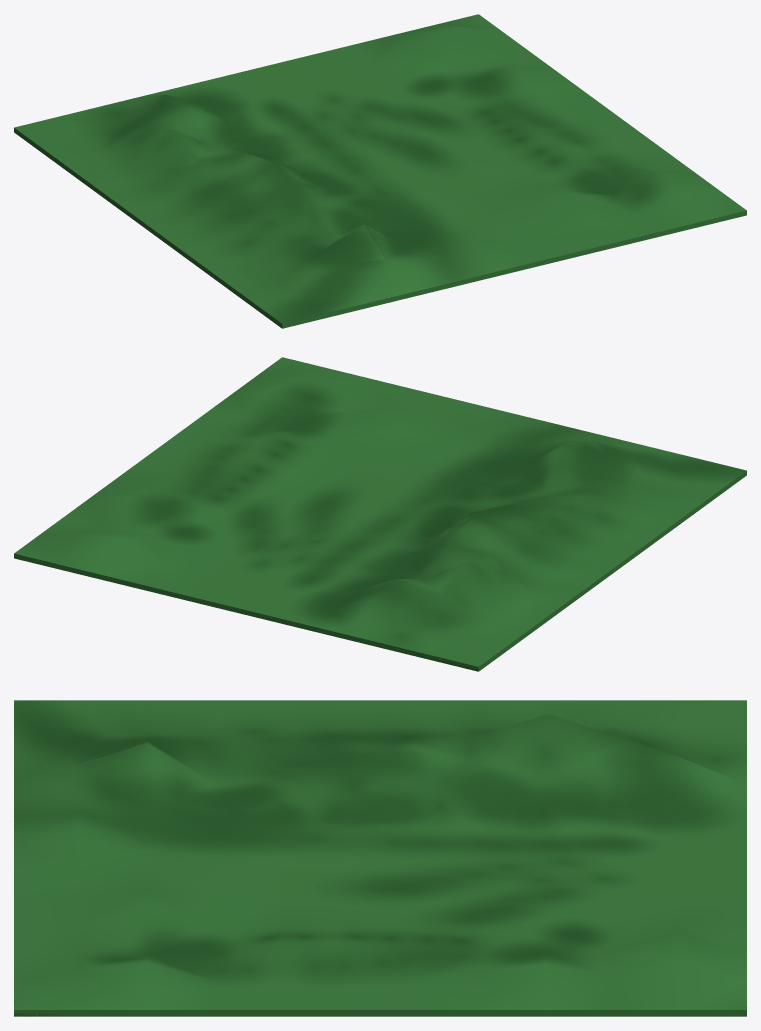
File: ground.obj
3 views of the same model, one above another, from view 1: azimuth 30°, elevation 25°; view 2: azimuth 150°, elevation 25°; view 3: azimuth 270°, elevation 25° (orthographic). The views are drawn at different scales.
Visible parts, largest first — view 1: 立方体; view 2: 立方体; view 3: 立方体.
Part boxes in pixels (x1,y1,x2,y2): 立方体: (14,14,746,328); 立方体: (14,357,746,671); 立方体: (14,700,746,1016).
Size of the model in its own units: 200 by 15.14 by 200.
1 material, 1 textured.
